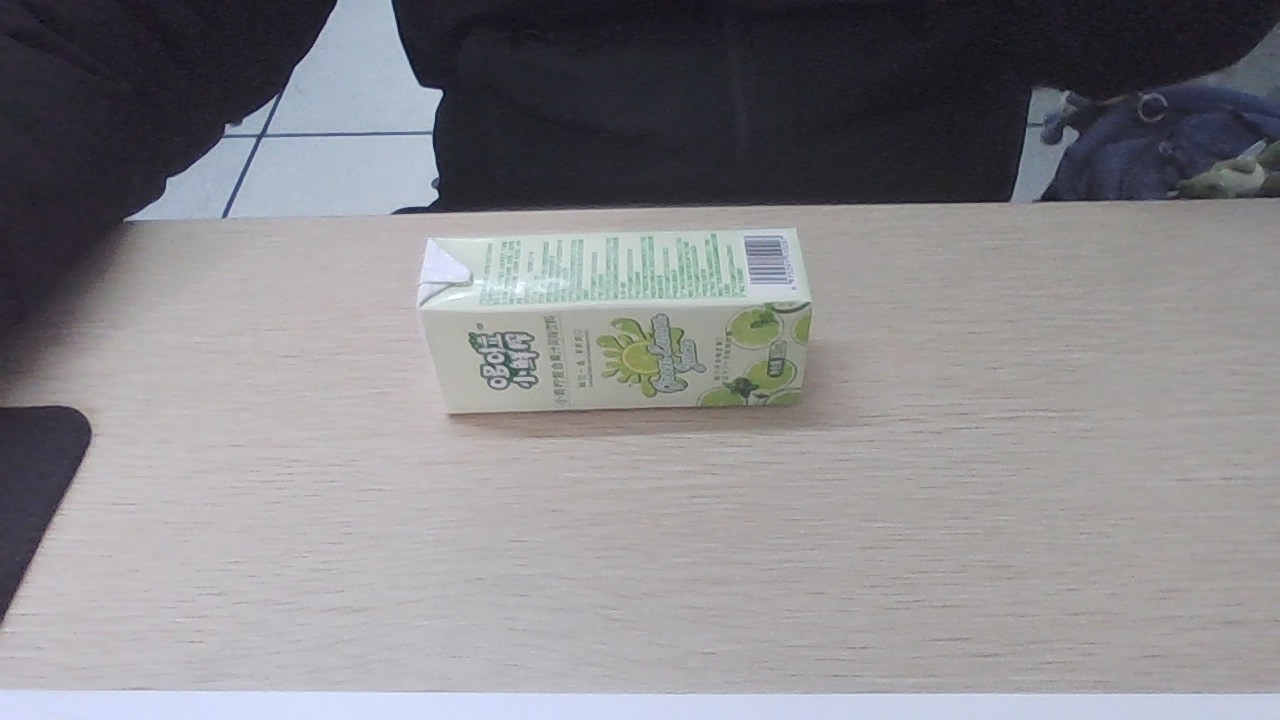CY-drink: (422, 228, 808, 424)
